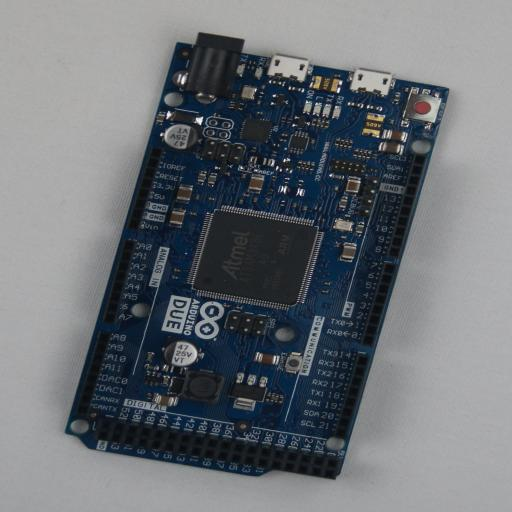Arduino Due: (65, 32, 449, 480)
